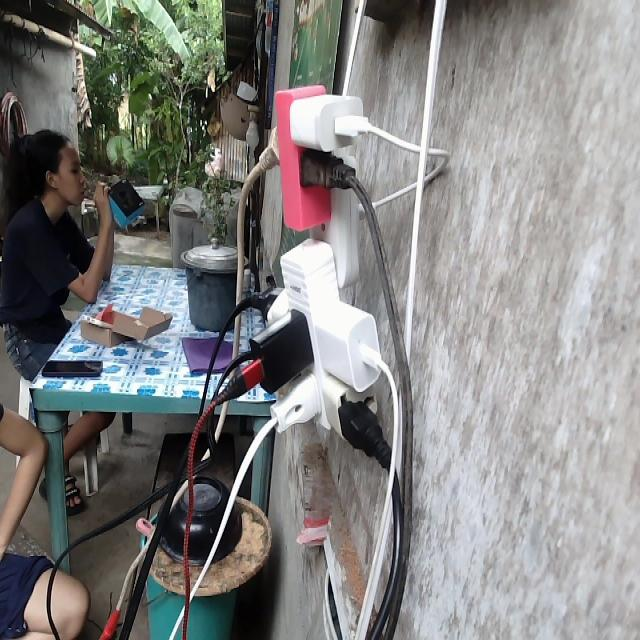-: (229, 83, 394, 472)
